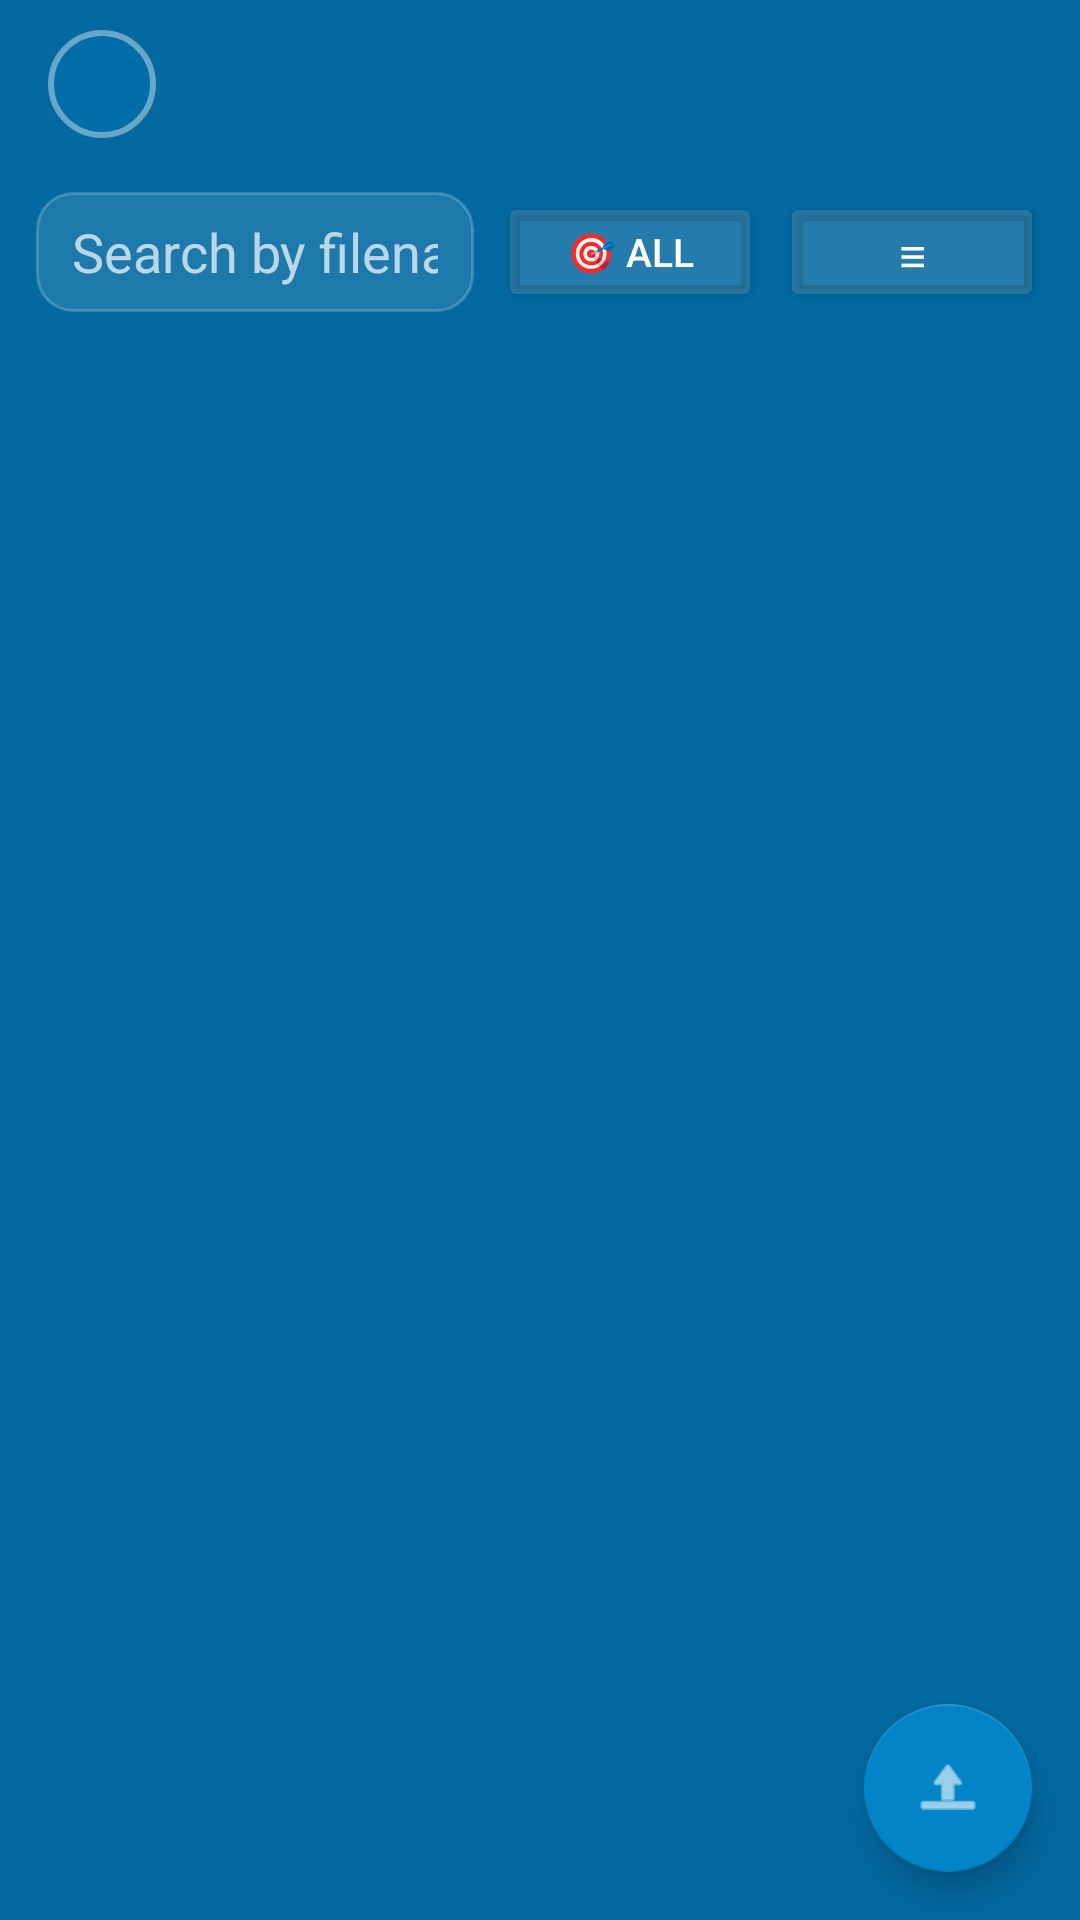

Named icons in this screenshot (1080*1920) and their bounding boxes, (x1, y1, x2, y2):
Upload file: (864, 1704, 1032, 1872)
